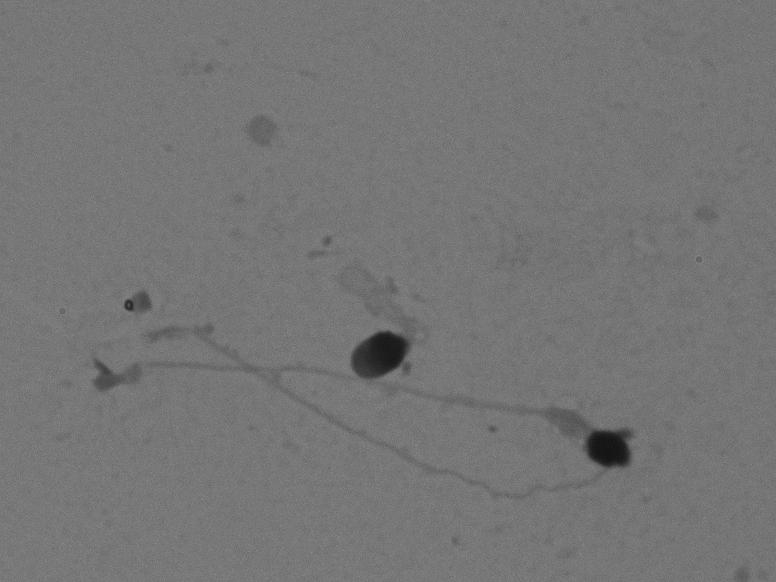Abnormal: (65, 313, 711, 483), (324, 245, 442, 392)
